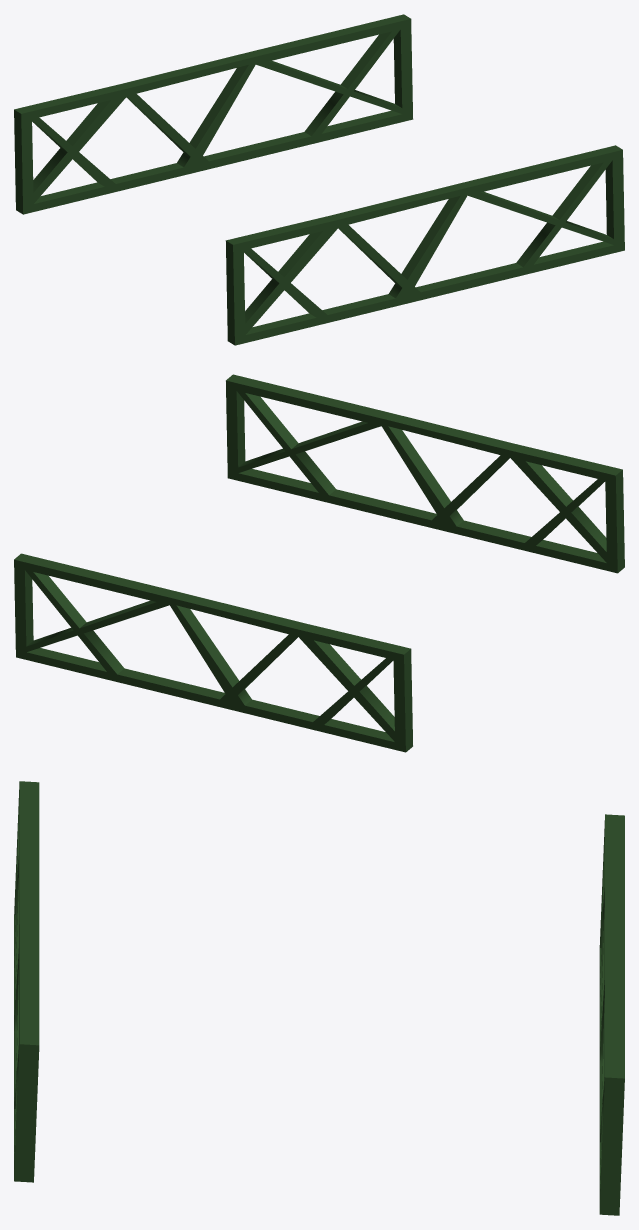
File: MOD_KitPontC.FBX
3 renders of one model, top to bottom at view 1: azimuth 30°, elevation 25°; view 2: azimuth 150°, elevation 25°; view 3: azimuth 270°, elevation 25°, orthographic. The views are drawn at different scales.
Parts seen in each view (by area): view 1: PC; view 2: PC; view 3: PC.
Part boxes in pixels (left/top/right/bottom): PC: left=14, top=14, right=624, bottom=345; PC: left=14, top=374, right=624, bottom=752; PC: left=14, top=781, right=624, bottom=1215.
Size of the model in its own units: 30.48 by 9.27 by 29.92.
